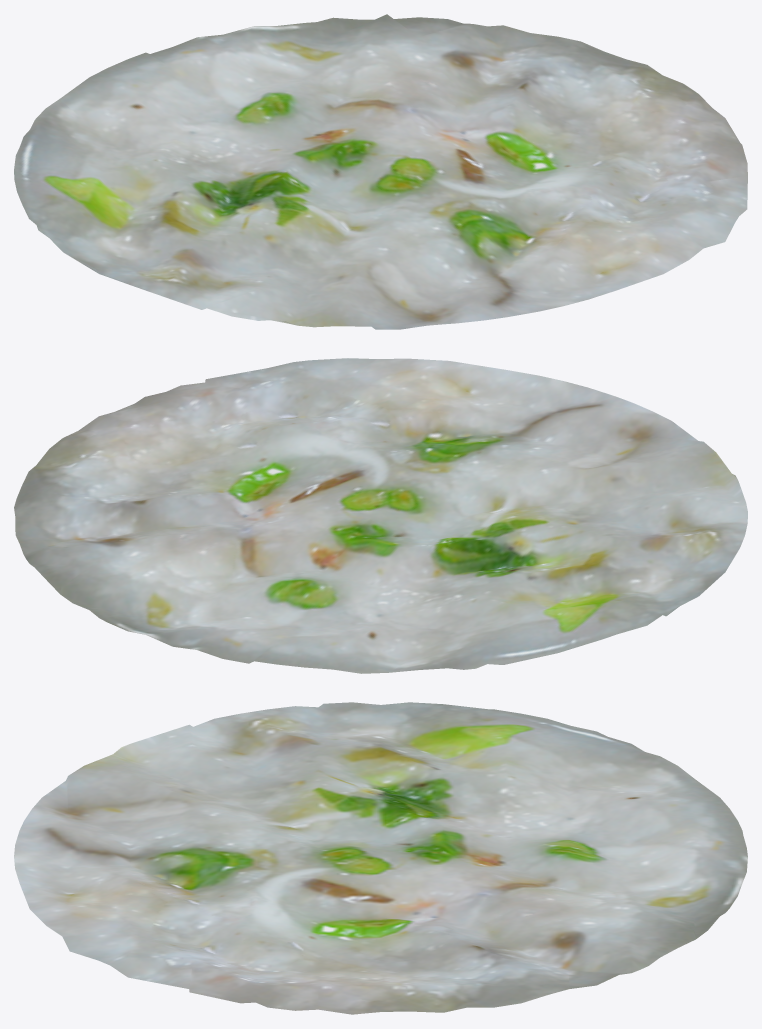
Rendered from bowl_Soup.fbx.
3 renders of one model, top to bottom at view 1: azimuth 30°, elevation 25°; view 2: azimuth 150°, elevation 25°; view 3: azimuth 270°, elevation 25°, orthographic.
Visible parts, largest first — view 1: 平面; view 2: 平面; view 3: 平面.
Part boxes in pixels (left/top/right/bottom): 平面: left=14, top=14, right=747, bottom=329; 平面: left=14, top=358, right=747, bottom=673; 平面: left=14, top=702, right=747, bottom=1014.
Bounding box in the file's own units: 0.5457 × 0.00877 × 0.5457.
